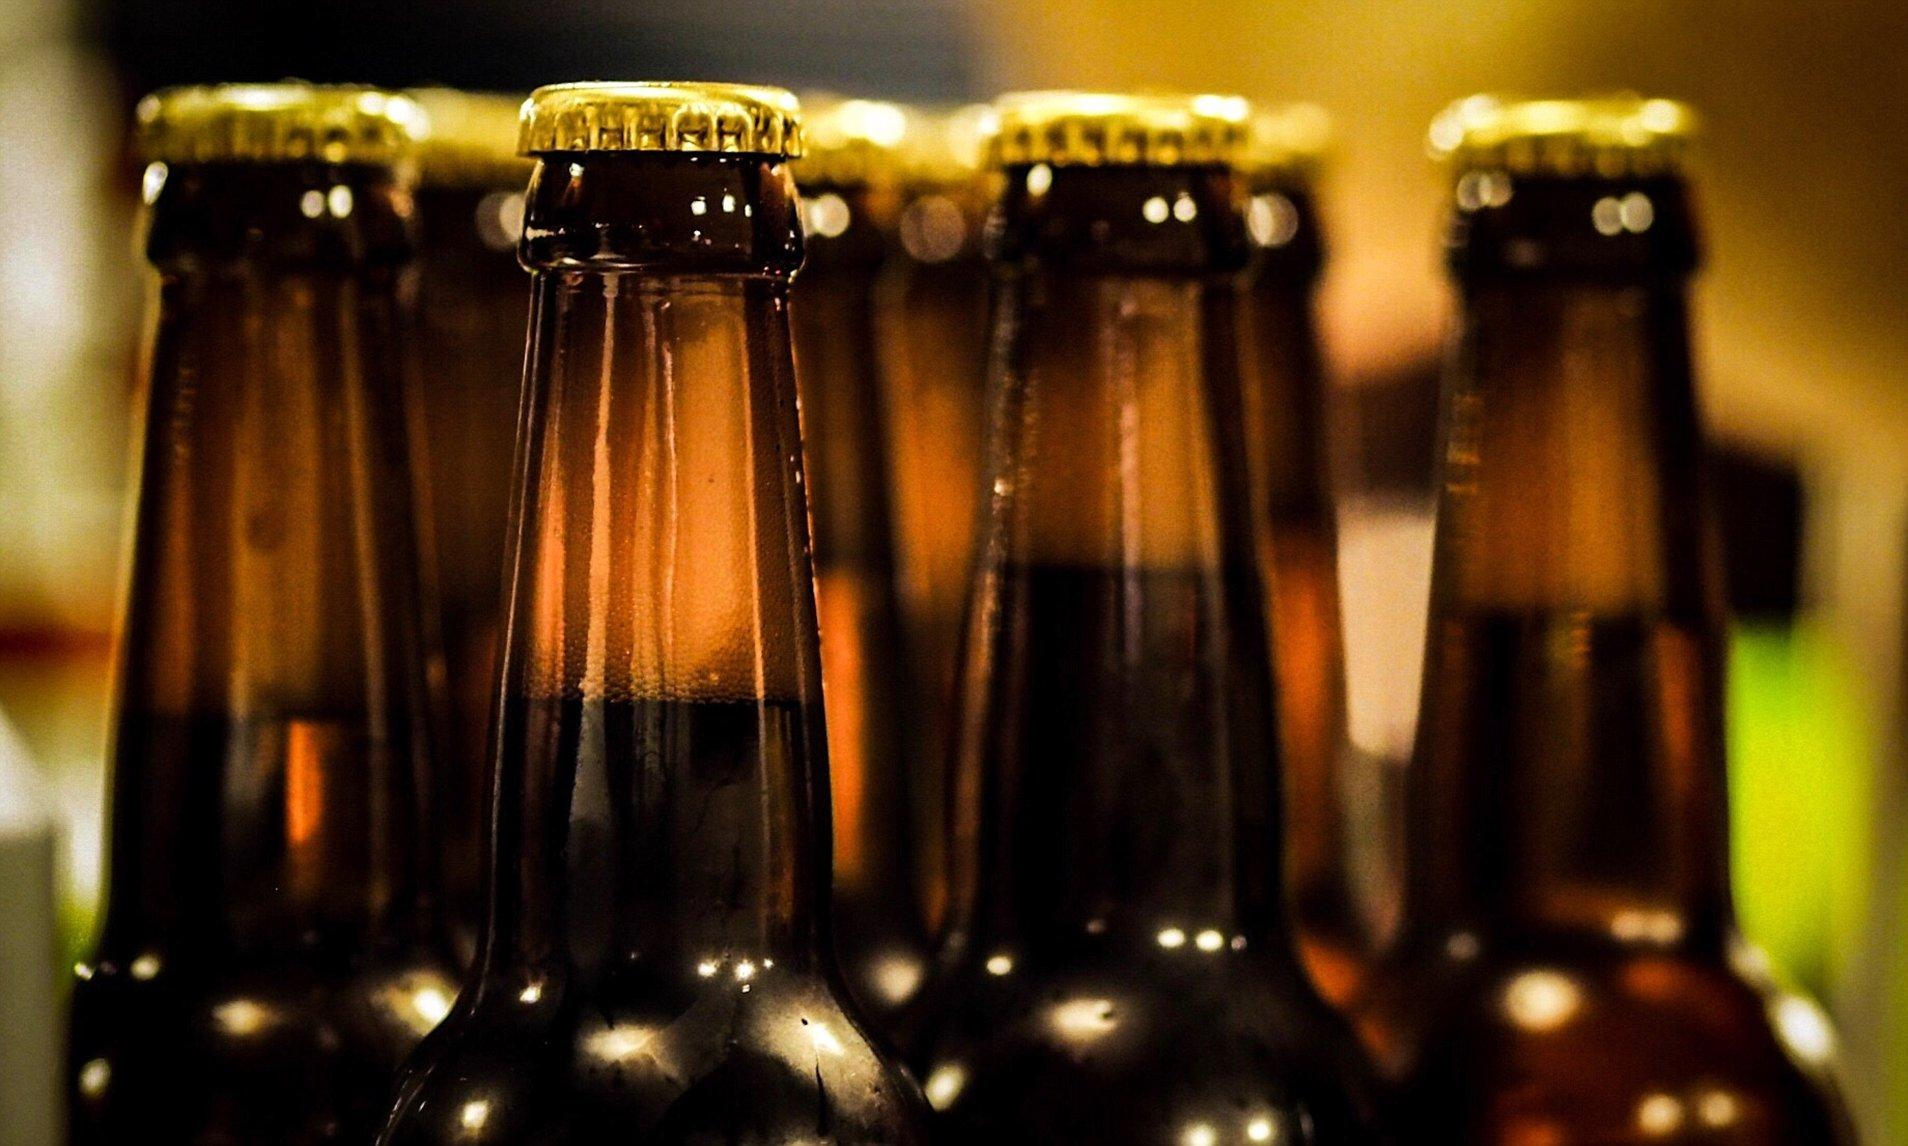glass: (1382, 86, 1871, 1146), (902, 102, 1390, 1146), (437, 84, 904, 1146), (94, 80, 492, 1146)
